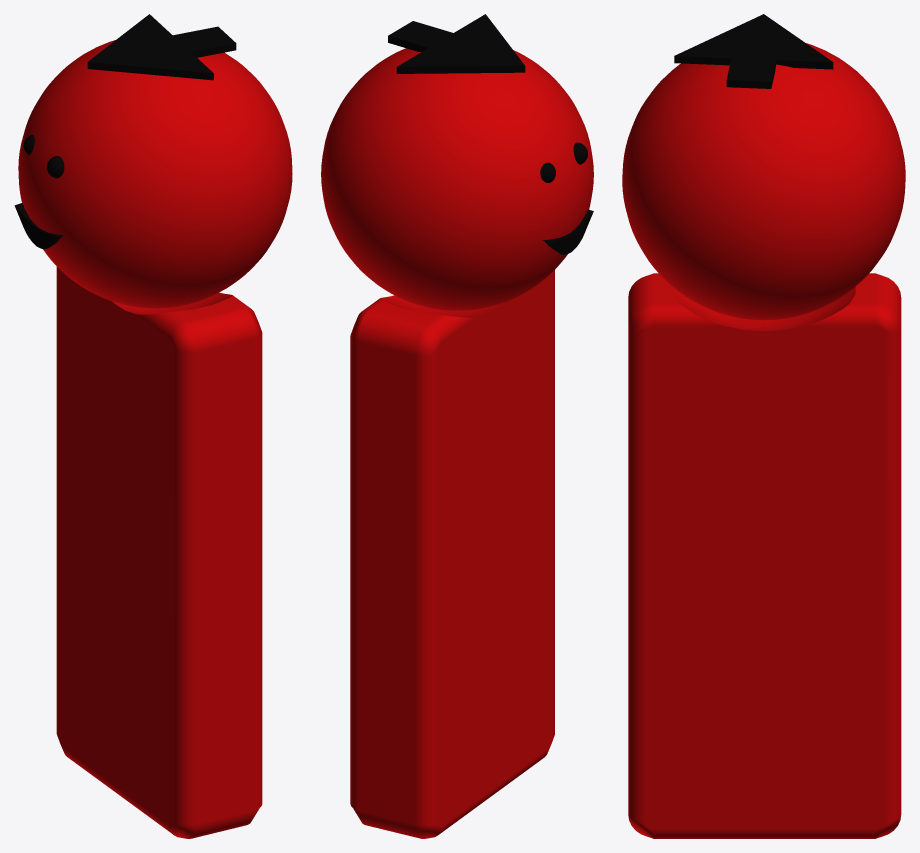
The model's file is red_smile.obj.
The picture shows the model from 3 angles, left to right: view 1: azimuth 30°, elevation 25°; view 2: azimuth 150°, elevation 25°; view 3: azimuth 270°, elevation 25°; orthographic projection. The views are drawn at different scales.
Parts seen in each view (by area): view 1: 1_Curve.002_Curve.001, 5.002_Curve.002_Curve.003_5.002_Curve.002_Curve.002; view 2: 1_Curve.002_Curve.001, 5.002_Curve.002_Curve.003_5.002_Curve.002_Curve.002; view 3: 1_Curve.002_Curve.001, 5.002_Curve.002_Curve.003_5.002_Curve.002_Curve.002.
Part boxes in pixels (x1=…): 1_Curve.002_Curve.001: x1=18, y1=40, x2=292, y2=838; 5.002_Curve.002_Curve.003_5.002_Curve.002_Curve.002: x1=14, y1=14, x2=236, y2=249; 1_Curve.002_Curve.001: x1=321, y1=48, x2=593, y2=838; 5.002_Curve.002_Curve.003_5.002_Curve.002_Curve.002: x1=388, y1=14, x2=593, y2=254; 1_Curve.002_Curve.001: x1=622, y1=43, x2=905, y2=838; 5.002_Curve.002_Curve.003_5.002_Curve.002_Curve.002: x1=674, y1=14, x2=833, y2=88.
Bounding box in the file's own units: 0.1662 × 0.4993 × 0.1661.
